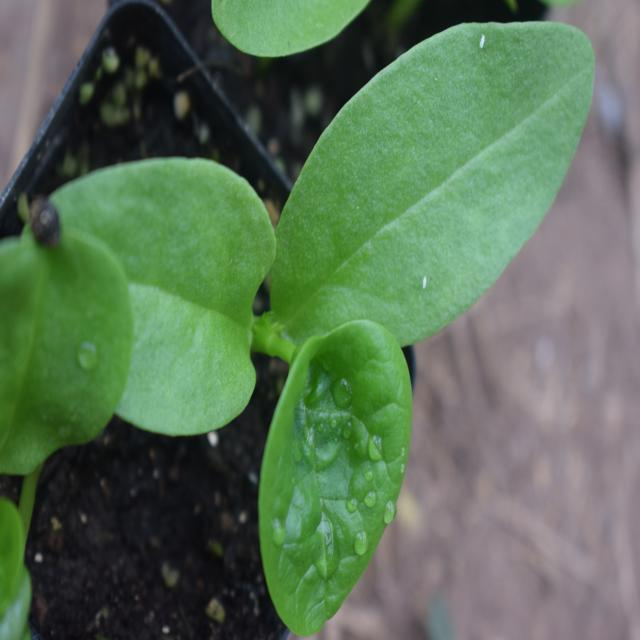Ceylon spinach: (64, 23, 603, 616)
